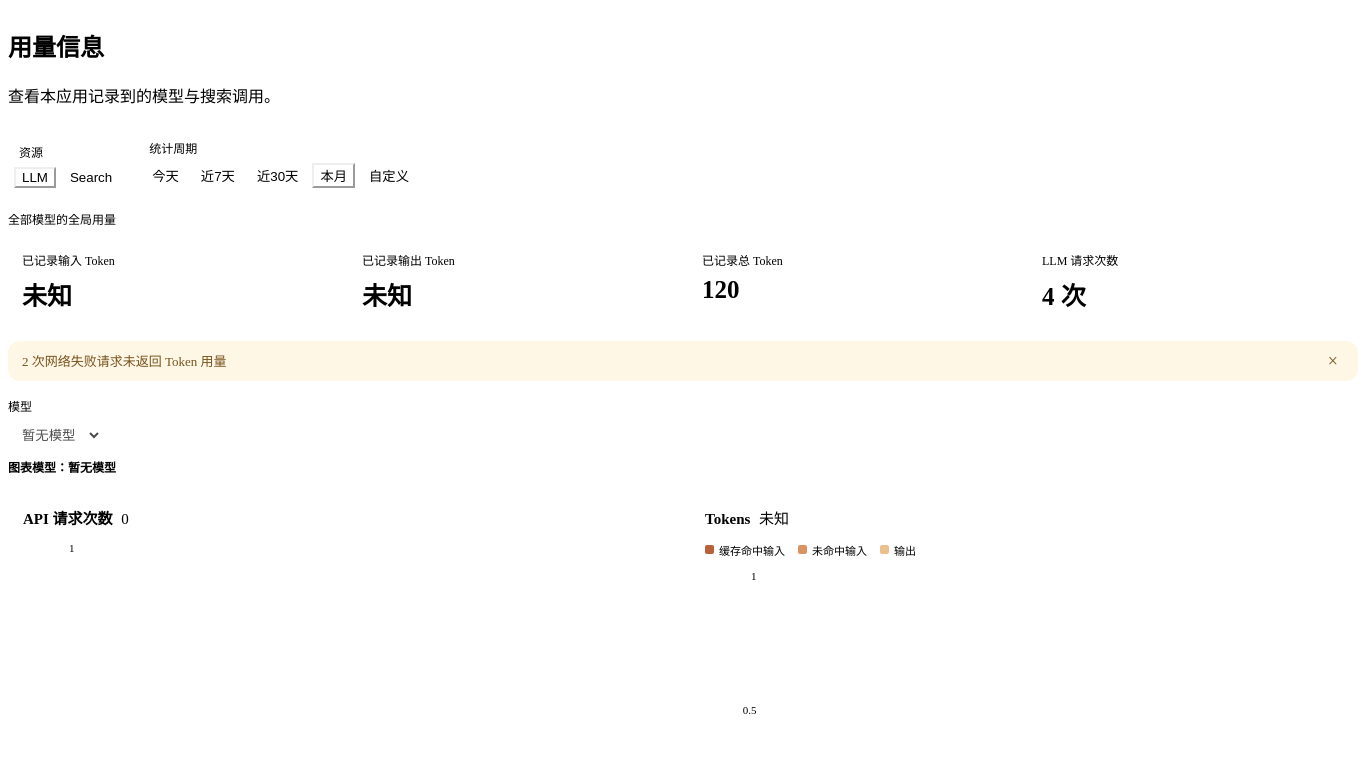
Scenario: UsageDashboardView › explains network-only unknown usage and deletes exactly the displayed snapshot
The image size is (1366, 768).
Expected: the text "2 次网络失败请求未返回 Token 用量" is shown, [22,351,227,370]
Click the button named "永久删除这 2 条失败记录": (1333, 361) [1322,351,1344,371]
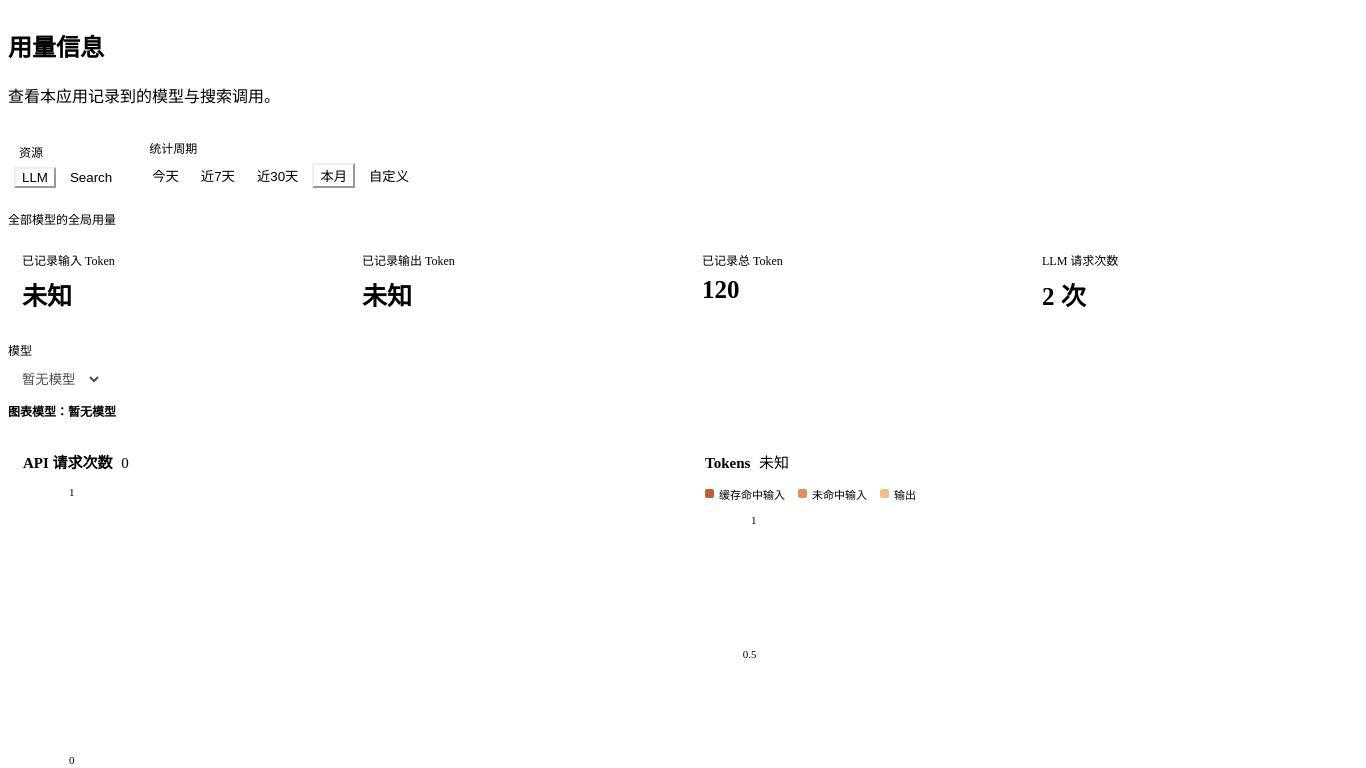
Expected: the text "120" is shown, [702,276,740,303]
Result: the text "2 次网络失败请求未返回 Token 用量" is gone
